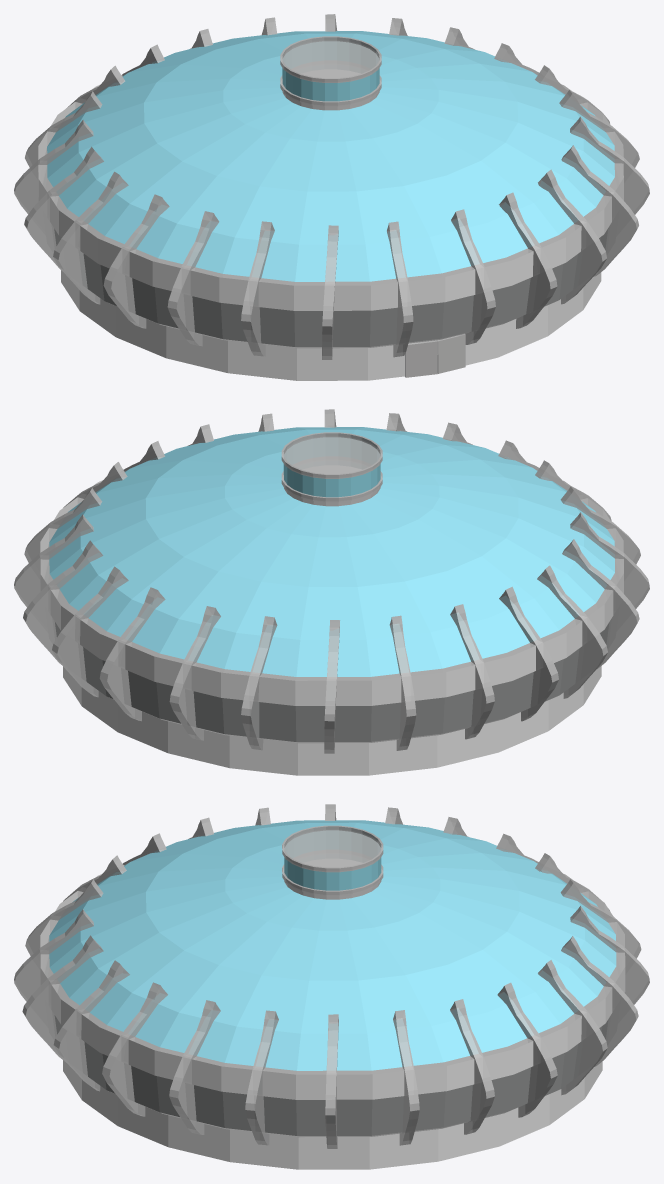
The model's file is tashkent_sirk.glb.
The picture shows the model from 3 angles, top to bottom: view 1: azimuth 30°, elevation 25°; view 2: azimuth 150°, elevation 25°; view 3: azimuth 270°, elevation 25°; orthographic projection.
Parts seen in each view (by area): view 1: Object_1182, Object_1122, Object_1148, Object_1820, Object_1414, Object_1416, Object_2440, Object_1144, Object_1538, Object_1150, Object_1172, Object_2450 (+116 smaller); view 2: Object_1544, Object_1186, Object_2096, Object_1820, Object_1542, Object_1504, Object_1136, Object_1188, Object_2212, Object_1432, Object_1180, Object_1546 (+125 smaller); view 3: Object_1564, Object_1502, Object_1176, Object_1820, Object_1562, Object_1566, Object_2446, Object_1168, Object_1530, Object_1178, Object_1500, Object_2442 (+116 smaller).
Part boxes in pixels (x1,y1,x2,y2): Object_1182: (299,191,365,244); Object_1122: (356,186,429,244); Object_1148: (235,186,307,244); Object_1820: (282,41,379,78); Object_1414: (404,175,486,236); Object_1416: (177,176,259,237); Object_2440: (294,310,370,346); Object_1144: (295,244,369,281); Object_1538: (365,237,441,281); Object_1150: (130,161,216,223); Object_1172: (446,161,533,222); Object_2450: (370,302,443,346); Object_1544: (300,587,366,639); Object_1186: (236,582,308,639); Object_2096: (357,581,429,639); Object_1820: (284,437,380,473); Object_1542: (179,571,260,632); Object_1504: (405,571,487,632); Object_1136: (296,639,370,676); Object_1188: (132,557,218,618); Object_2212: (447,556,533,617); Object_1432: (298,743,368,775); Object_1180: (482,538,566,598); Object_1546: (98,539,183,598); Object_1564: (301,980,367,1033); Object_1502: (358,975,430,1033); Object_1176: (237,975,308,1033); Object_1820: (284,830,381,867); Object_1562: (406,964,488,1025); Object_1566: (179,965,261,1026); Object_2446: (296,1099,372,1135); Object_1168: (297,1033,371,1070); Object_1530: (367,1026,443,1070); Object_1178: (448,950,534,1011); Object_1500: (132,950,218,1012); Object_2442: (371,1091,445,1135).
Bounding box in the file's own units: 3186 × 1154 × 3187.
